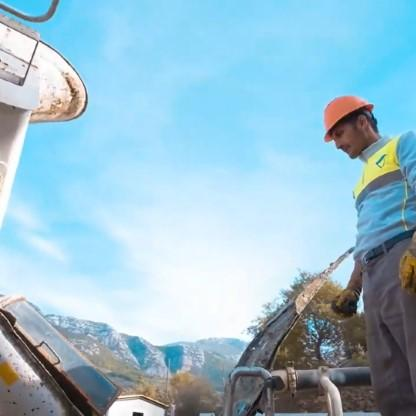helmet: (310, 91, 386, 162)
